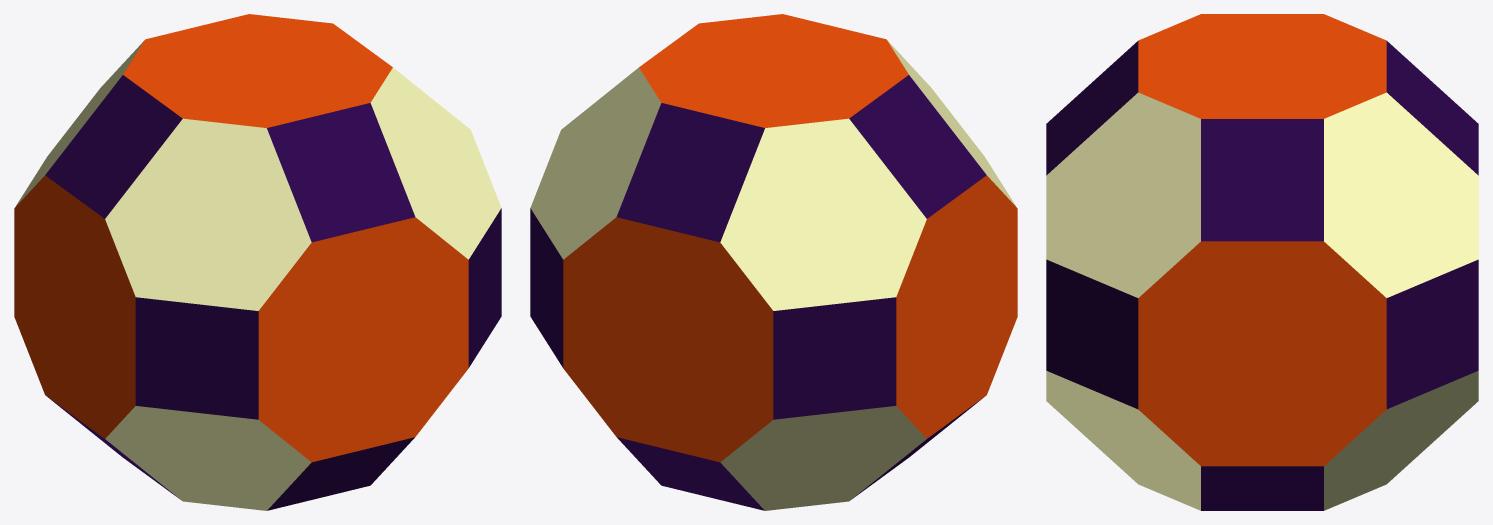
Rendered from t-cuboctahedron.fbx.
3 views of the same model, side by side, from view 1: azimuth 30°, elevation 25°; view 2: azimuth 150°, elevation 25°; view 3: azimuth 270°, elevation 25° (orthographic). The views are drawn at different scales.
Visible parts, largest first — view 1: polyhedronisme-taC; view 2: polyhedronisme-taC; view 3: polyhedronisme-taC.
Part boxes in pixels (bbox=[...]): polyhedronisme-taC: bbox=[14, 14, 501, 510]; polyhedronisme-taC: bbox=[530, 14, 1017, 510]; polyhedronisme-taC: bbox=[1046, 14, 1478, 510].
Size of the model in its own units: 168 by 168 by 168.
